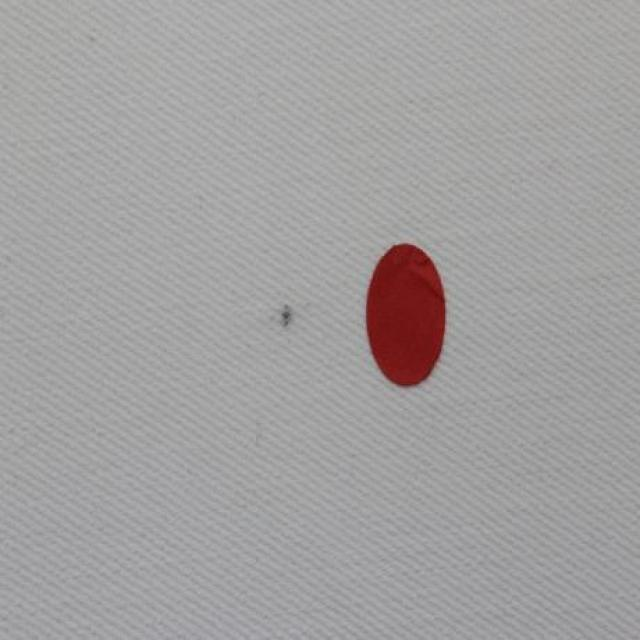Thread_other: (262, 295, 310, 344)
